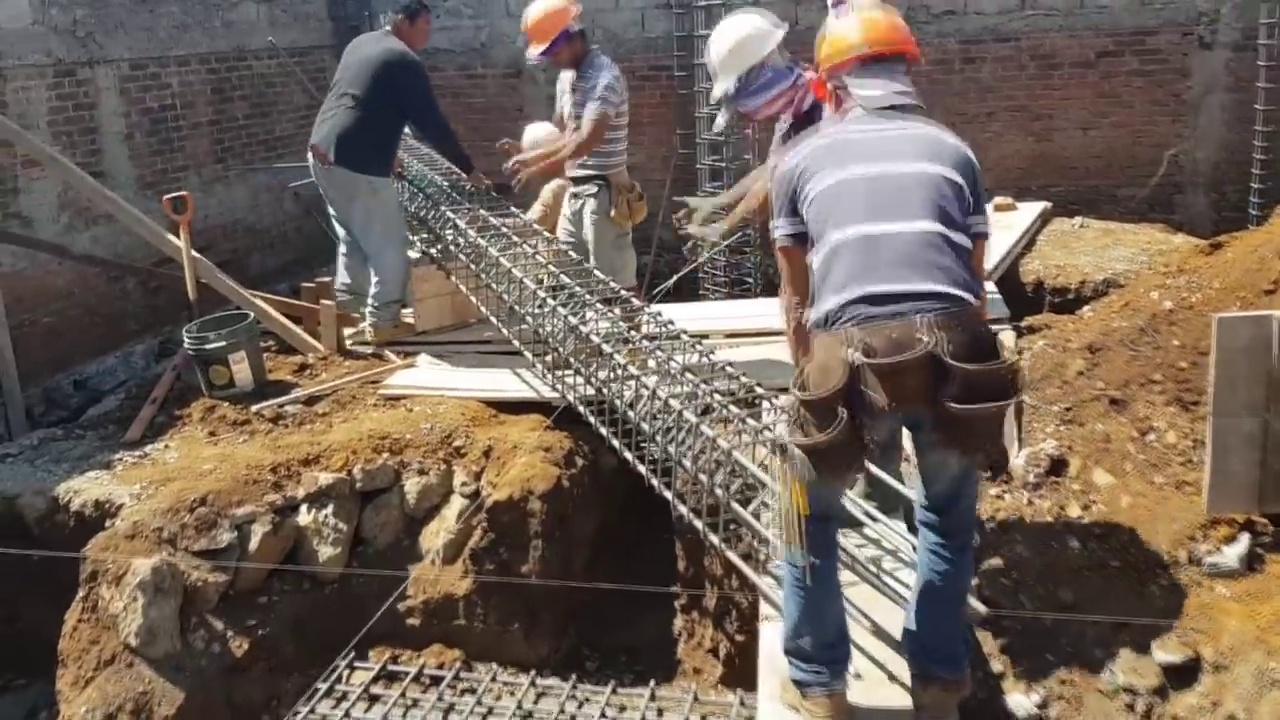helmet: (809, 2, 927, 89), (709, 9, 789, 106), (513, 0, 583, 62), (516, 116, 565, 155)
helmet-off: (383, 0, 437, 57)
helmet-on: (808, 2, 933, 126), (708, 13, 813, 144), (513, 0, 591, 79), (512, 115, 568, 185)
person: (757, 3, 1020, 720), (308, 0, 476, 352), (513, 0, 637, 289), (692, 4, 831, 233)
